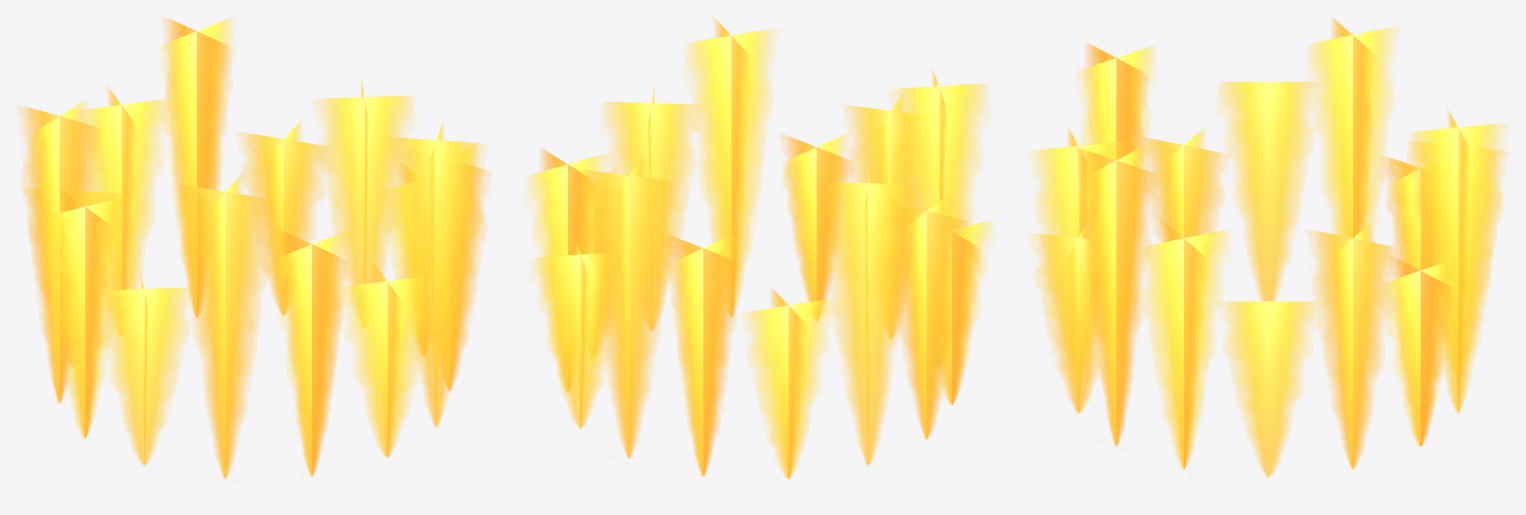
The model's file is fx-lua.glb.
3 views of the same model, side by side, from view 1: azimuth 30°, elevation 25°; view 2: azimuth 150°, elevation 25°; view 3: azimuth 270°, elevation 25° (orthographic).
Visible parts, largest first — view 1: flames; view 2: flames; view 3: flames.
Boxes of the visible parts, x1,y1,x2,y2 form: flames: (18,17,490,487); flames: (527,18,992,482); flames: (1030,17,1506,477).
Bounding box in the file's own units: 4.1 × 2.6 × 4.
1 material, 1 textured.
